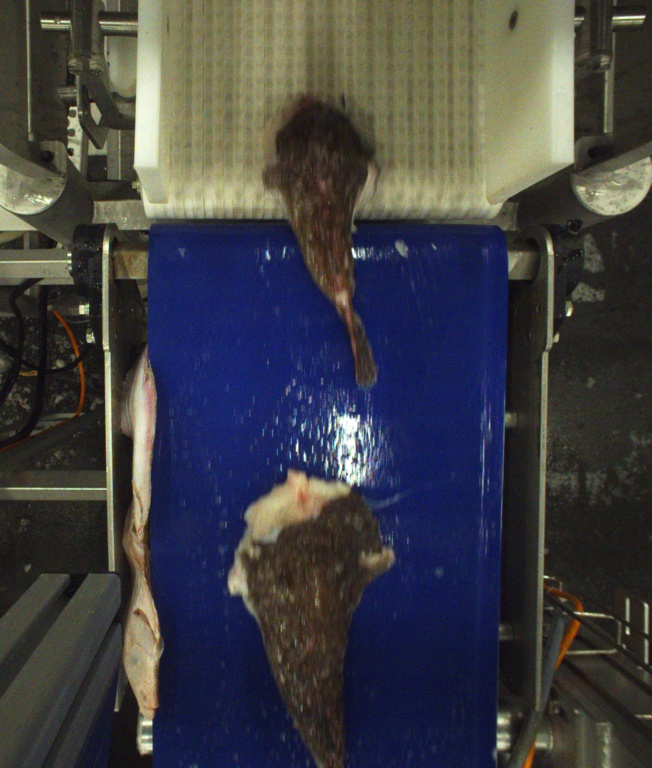ANF: (259, 97, 384, 390)
